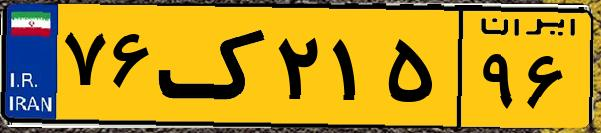1: (330, 28, 385, 110)
2: (270, 28, 330, 110)
5: (385, 28, 445, 110)
6: (525, 38, 570, 115), (110, 28, 158, 98)
7: (57, 26, 110, 100)
9: (475, 38, 525, 113)
ک: (158, 12, 270, 120)
